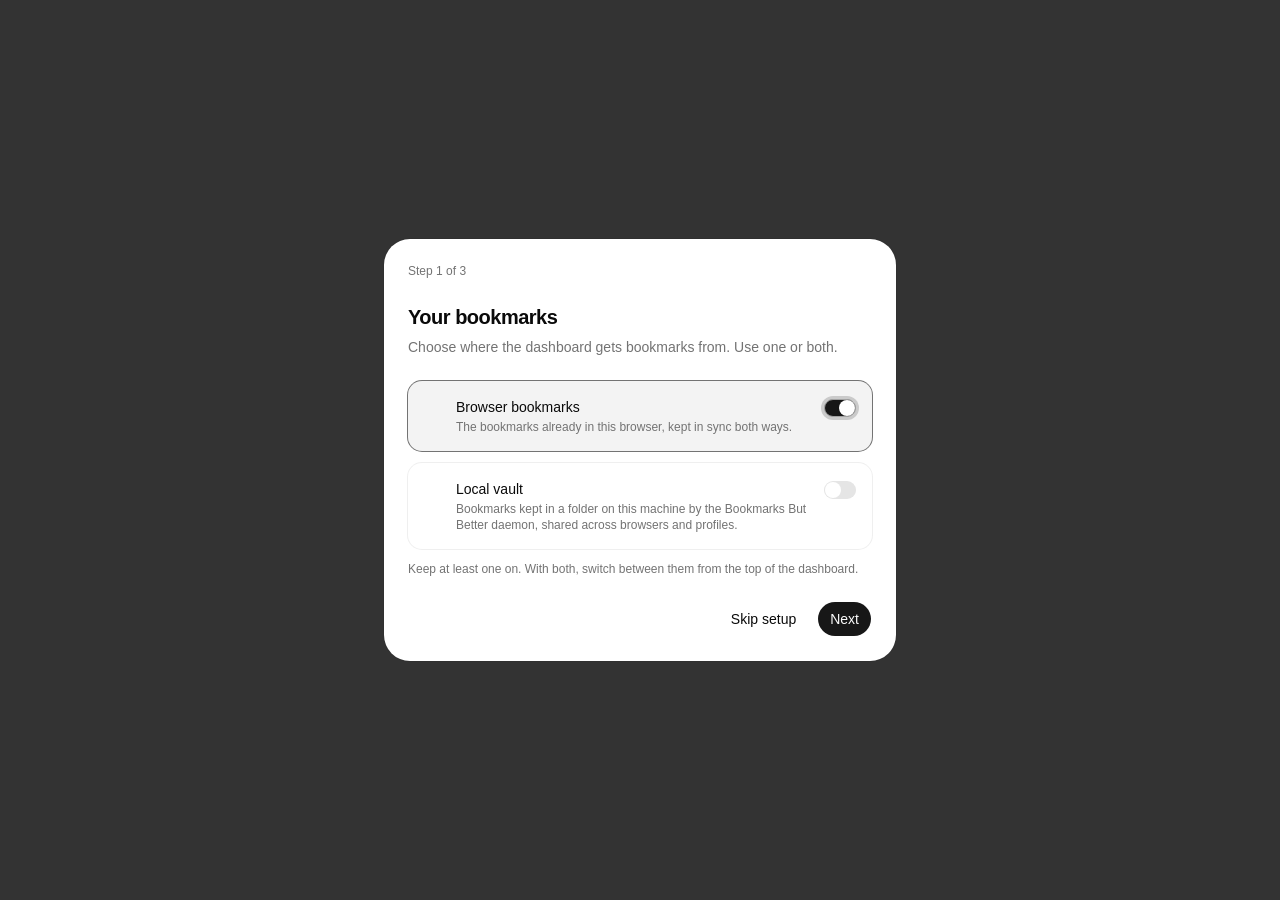
it: OnboardingWizard source step › goes straight to the root folder step without a vault
Click the button "Next".
click(845, 619)  # box [817,601,872,637]
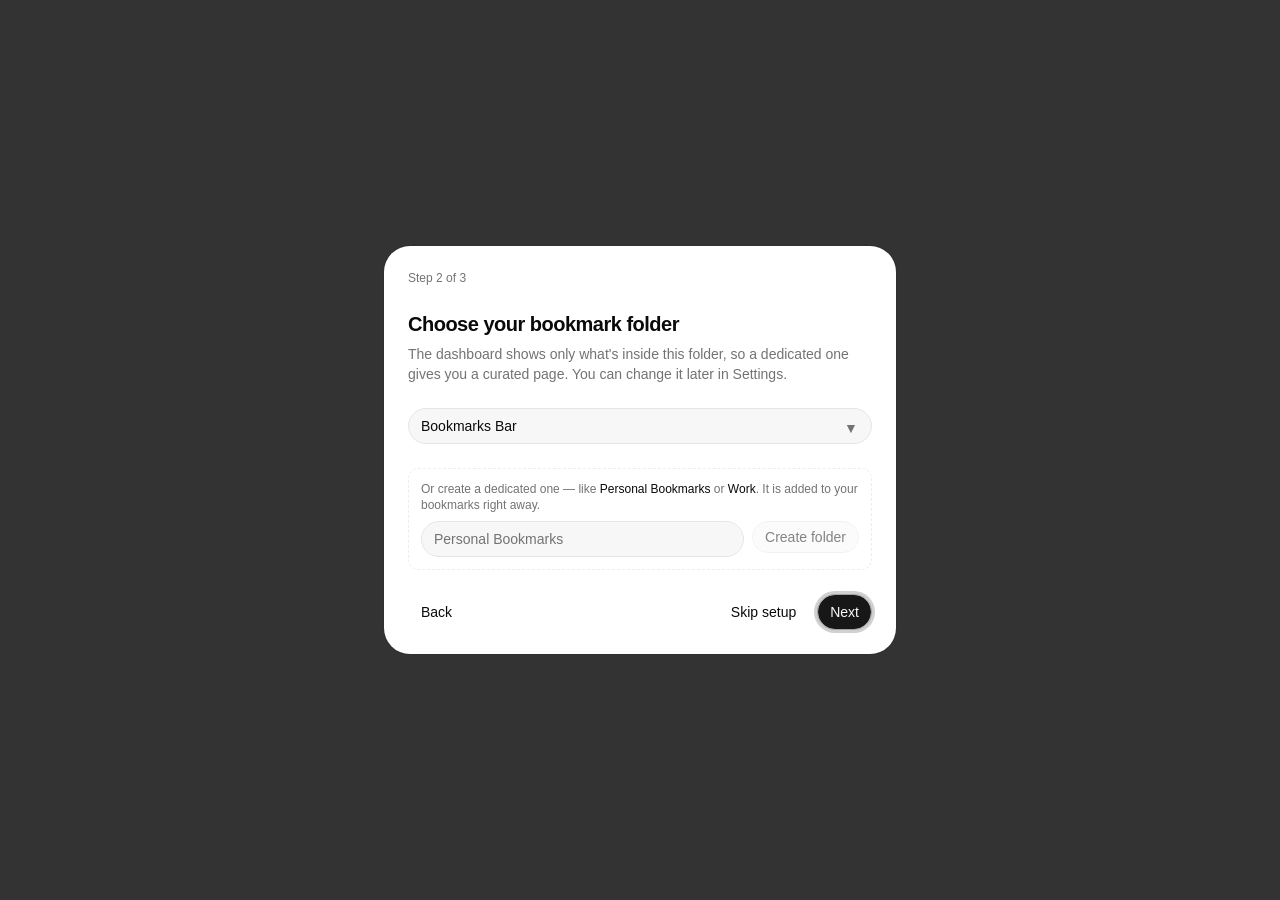
Check: the heading "Choose your bookmark folder" is shown, box [408,313,679,335]
